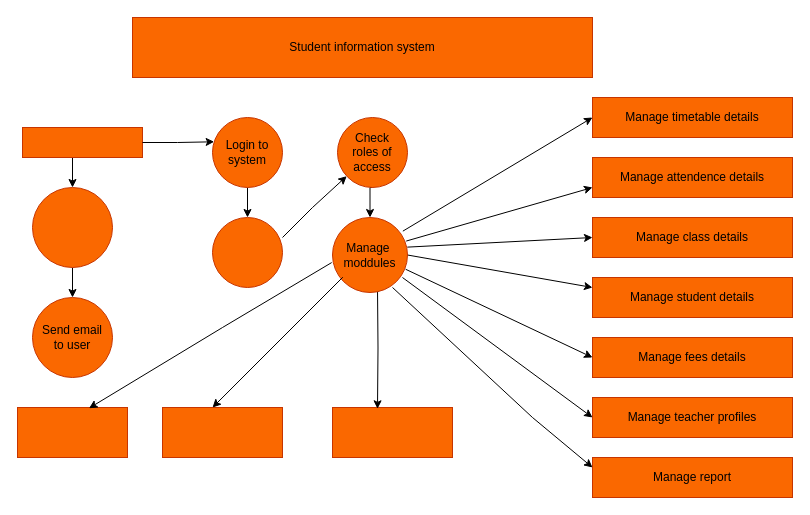
The diagram is 810 pixels wide and 515 high, and some of its shapes have lost their labels. Here are the shapes that lost their labels. From the top down, the box of each, then its label:
(22, 126, 142, 158): Admin
(32, 186, 112, 268): Forget Password
(212, 216, 282, 288): Check credentials
(16, 406, 128, 458): Manage system Admins
(162, 406, 282, 458): Manage roles of user
(332, 406, 452, 458): Manager user permission
